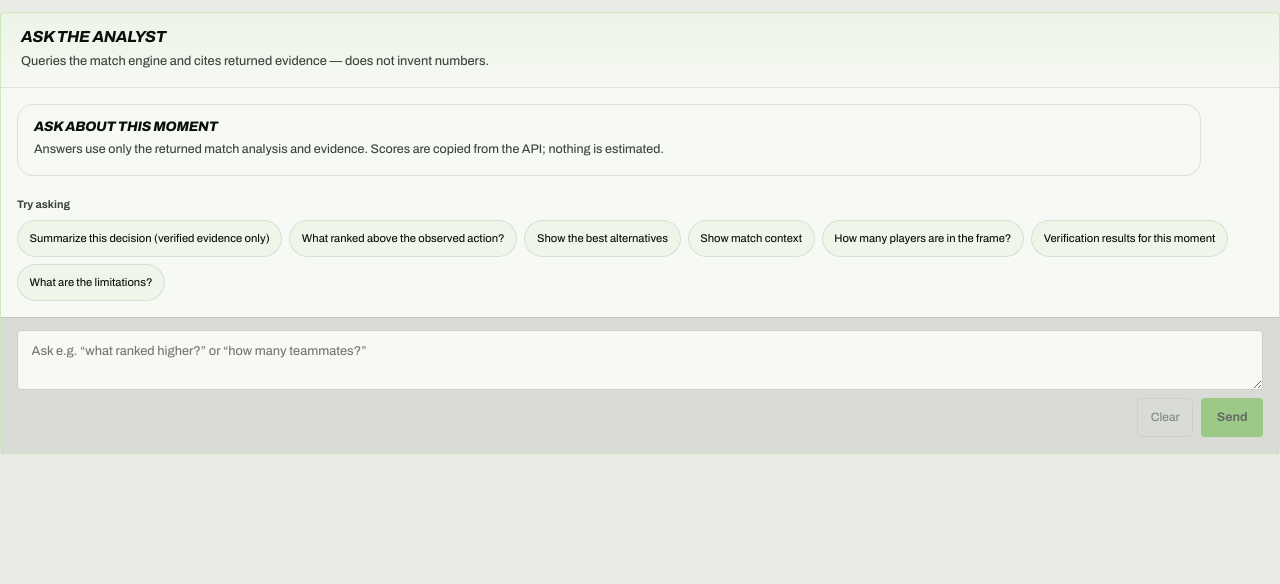
DecisionAnalystChat › shows a friendly error without falling back to client-generated match answers
This screenshot has width=1280, height=584.
Type "What ranked higher?" into the text box.
click(640, 360); type("What ranked higher?")  # box x1=17 y1=330 x2=1263 y2=390
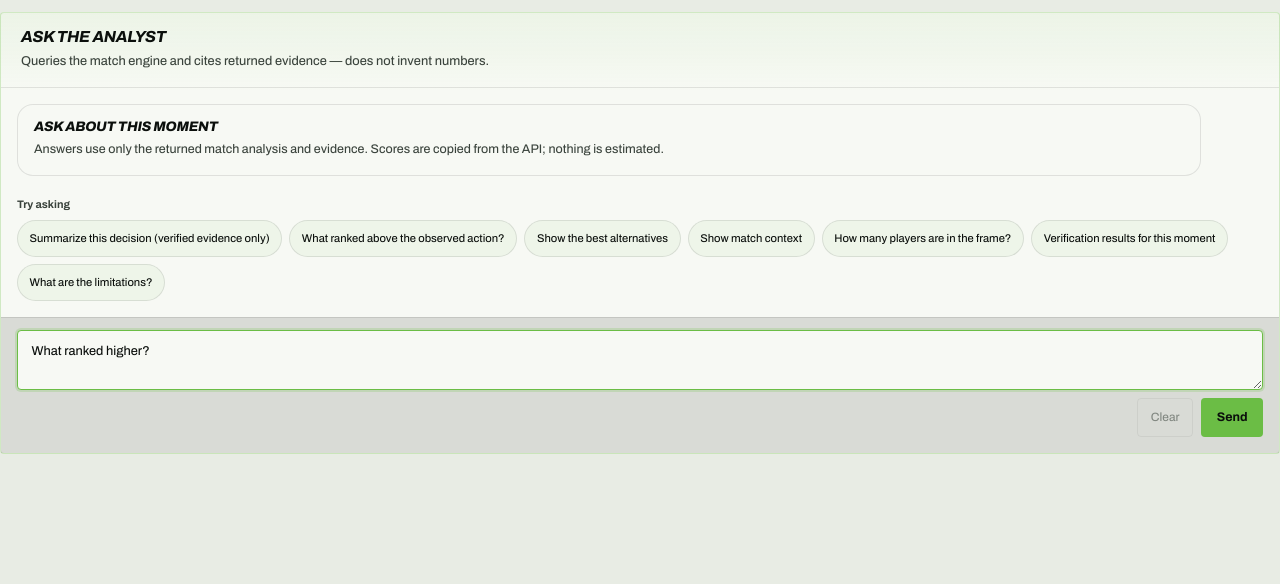
Click the button "Send".
click(1232, 418)  # box x1=1201 y1=398 x2=1263 y2=437
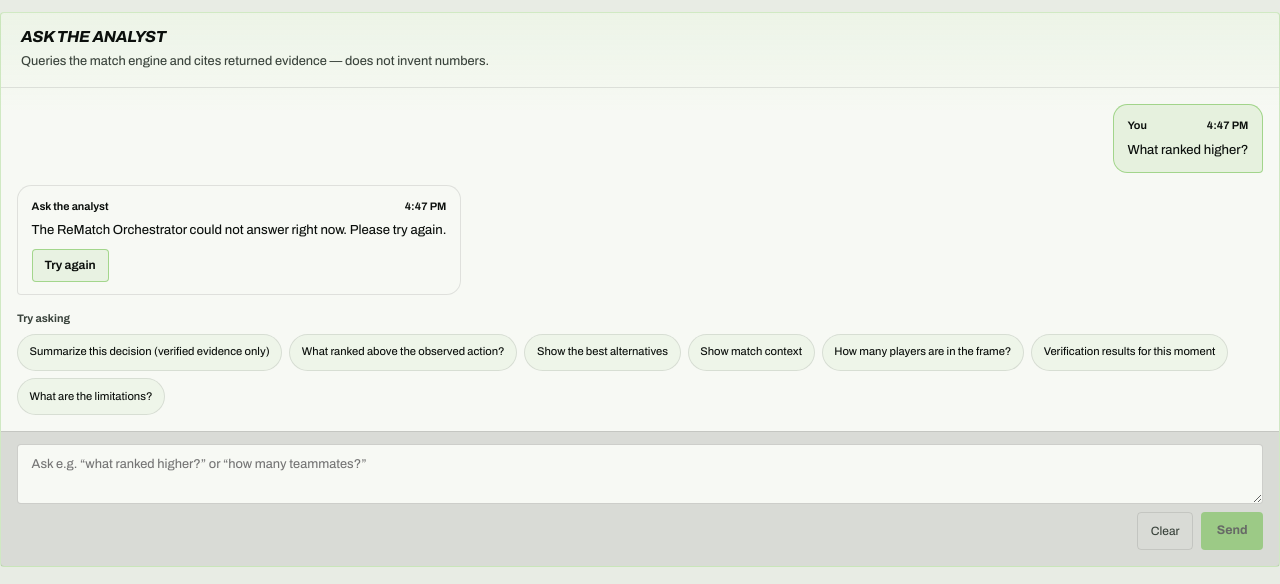
Result: the text "The ReMatch Orchestrator could not answer right now. Please try again." is shown at x1=32 y1=220 x2=446 y2=241
